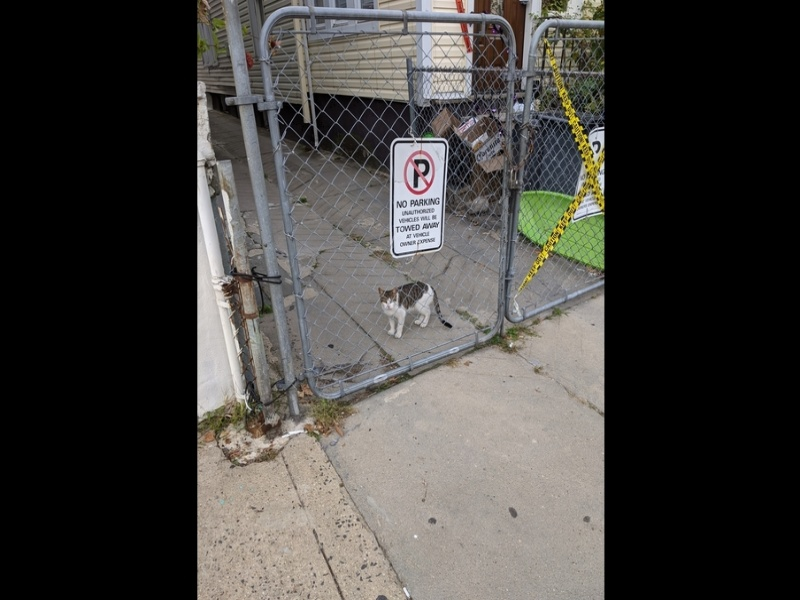cat: (372, 278, 458, 343)
